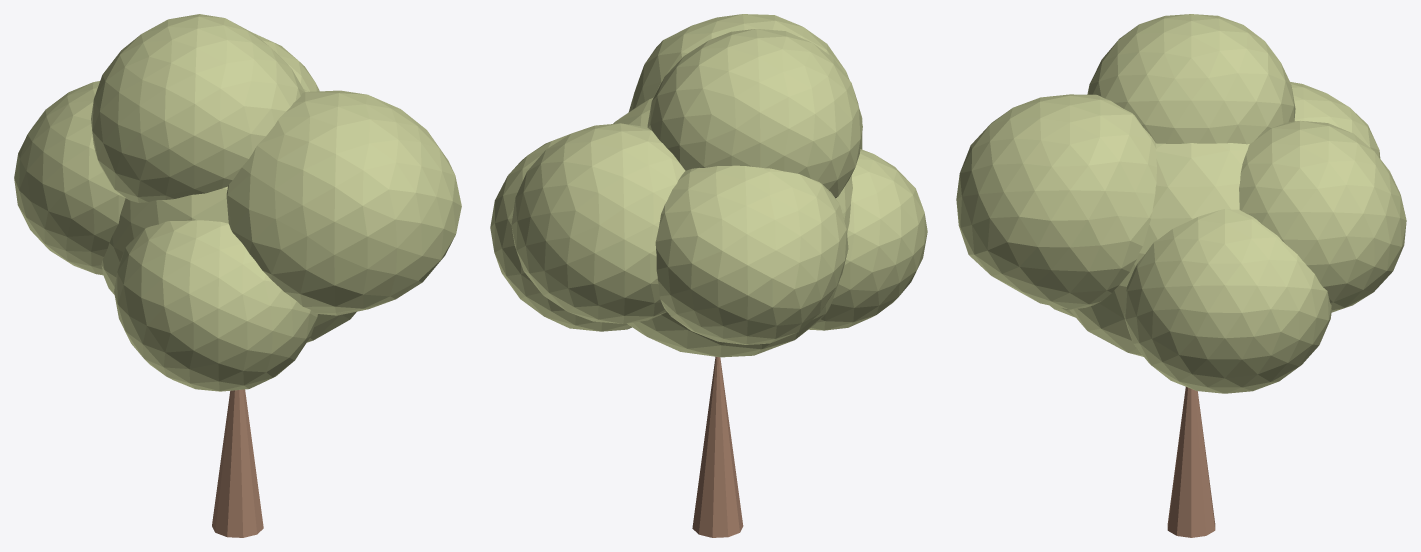
The model's file is tree_a.glb.
3 renders of one model, left to right at view 1: azimuth 30°, elevation 25°; view 2: azimuth 150°, elevation 25°; view 3: azimuth 270°, elevation 25°, orthographic. The views are drawn at different scales.
Visible parts, largest first — view 1: crown, trunk; view 2: crown, trunk; view 3: crown, trunk.
Part boxes in pixels (<box>): crown: <box>14,14,461,391</box>; trunk: <box>212,389,263,537</box>; crown: <box>490,14,927,357</box>; trunk: <box>692,356,743,537</box>; crown: <box>956,14,1406,393</box>; trunk: <box>1167,387,1215,537</box>.
Size of the model in its own units: 5.12 by 6.88 by 5.76.
